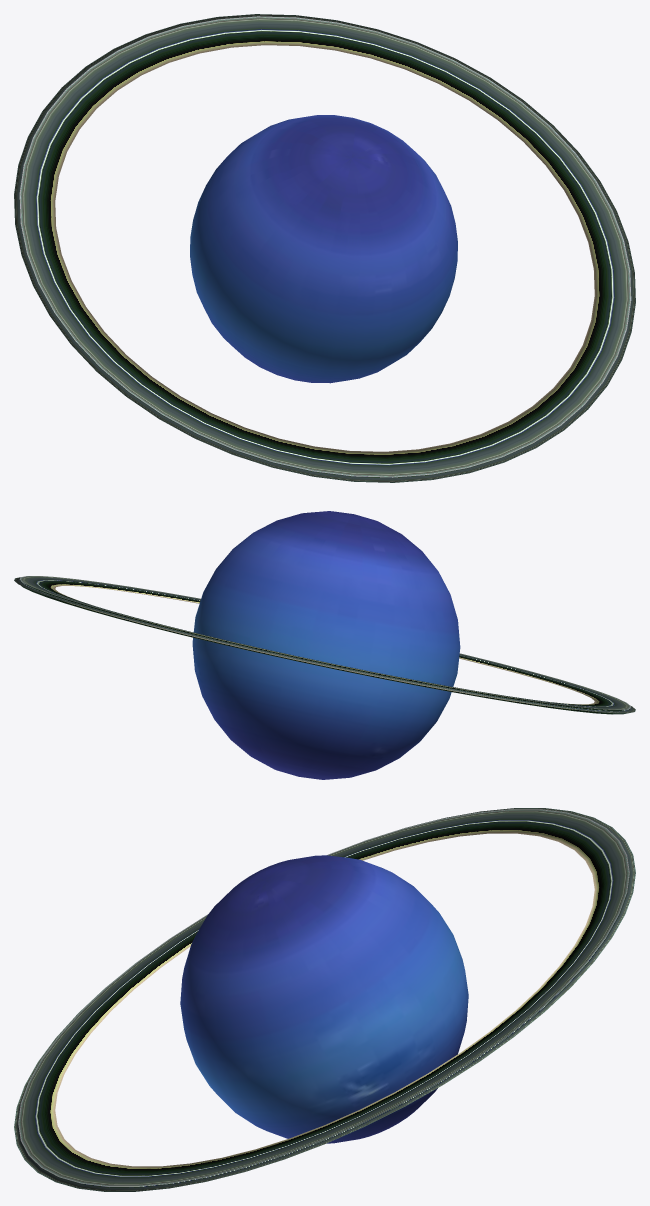
The model's file is uranus.gltf.
3 views of the same model, one above another, from view 1: azimuth 30°, elevation 25°; view 2: azimuth 150°, elevation 25°; view 3: azimuth 270°, elevation 25° (orthographic). The views are drawn at different scales.
Parts seen in each view (by area): view 1: uranus ring; view 2: uranus ring; view 3: uranus ring.
Part boxes in pixels (x1,y1,x2,y2): uranus ring: [14, 14, 635, 482]; uranus ring: [14, 511, 635, 779]; uranus ring: [14, 808, 635, 1191].
Size of the model in its own units: 6.12 by 2.59 by 5.58.
2 materials, 2 textured.
